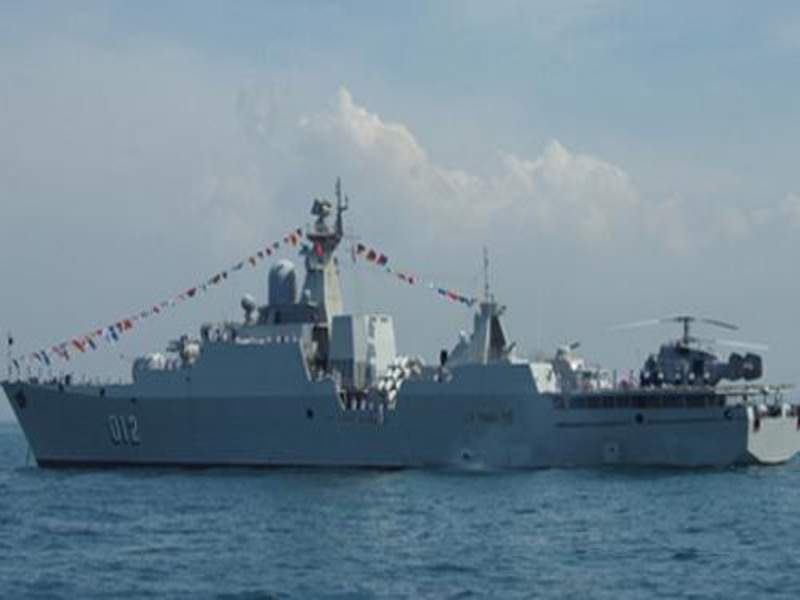cruise: (9, 245, 797, 464)
